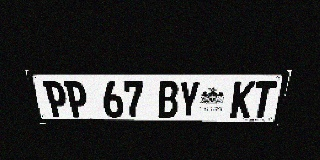6: (101, 81, 124, 117)
7: (122, 81, 144, 117)
B: (158, 81, 179, 118)
K: (230, 81, 256, 118)
P: (42, 81, 70, 117), (63, 81, 90, 117)
T: (250, 81, 278, 118)
Y: (178, 81, 200, 118)
